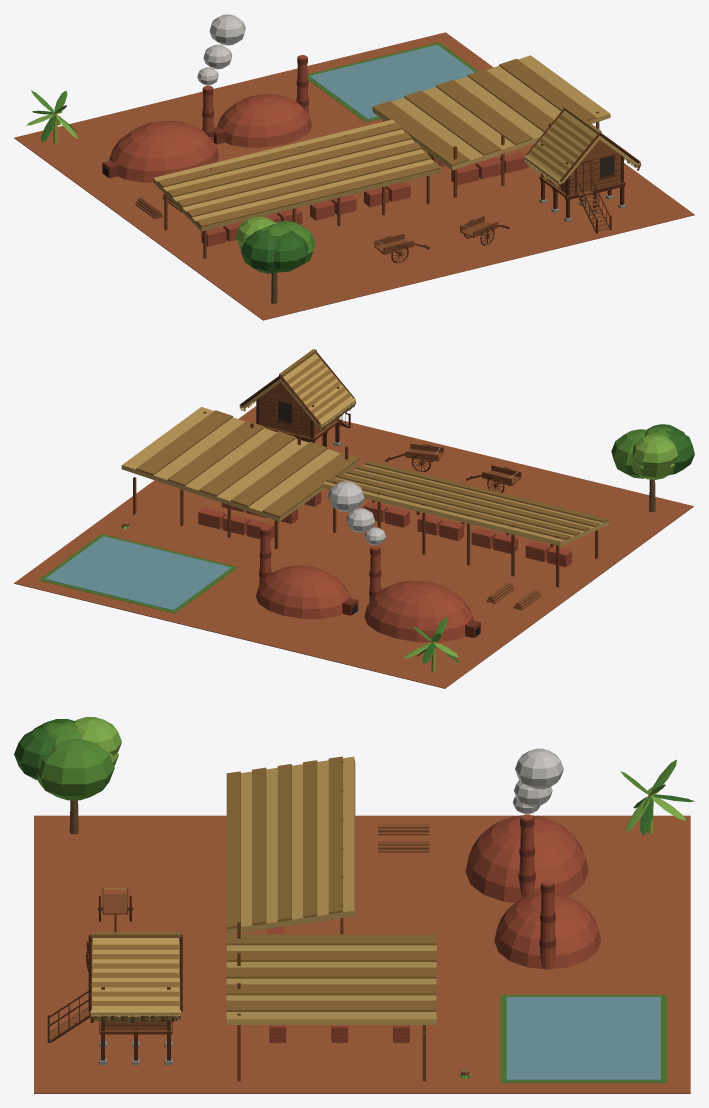
Rendered from factory_4.glb.
3 renders of one model, top to bottom at view 1: azimuth 30°, elevation 25°; view 2: azimuth 150°, elevation 25°; view 3: azimuth 270°, elevation 25°, orthographic. The views are drawn at different scales.
Parts seen in each view (by area): view 1: body; view 2: body; view 3: body.
Part boxes in pixels (x1,y1,x2,y2): body: (14, 14, 694, 320); body: (14, 349, 694, 688); body: (14, 717, 694, 1093).
Size of the model in its own units: 32.42 by 9.19 by 33.08.
